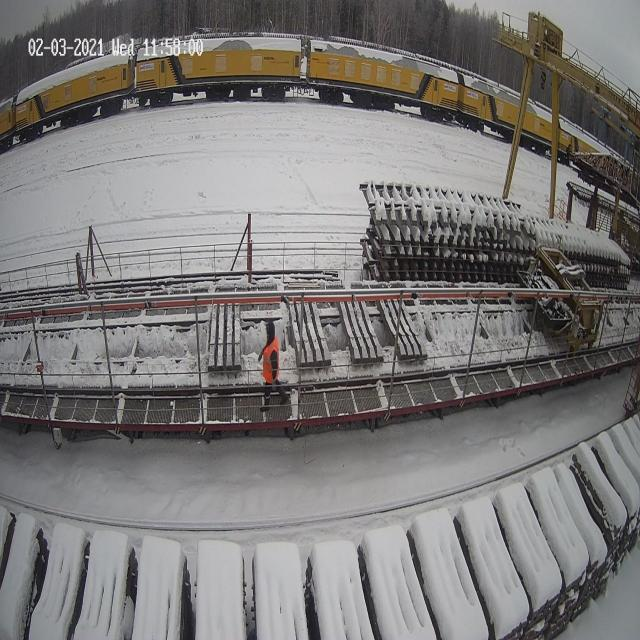Helmet: (265, 320, 275, 338)
Person: (258, 320, 288, 412)
